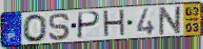4: (136, 7, 157, 37)
H: (102, 8, 128, 39)
N: (157, 5, 185, 37)
O: (22, 13, 49, 44)
P: (76, 11, 102, 40)
S: (48, 13, 72, 42)
